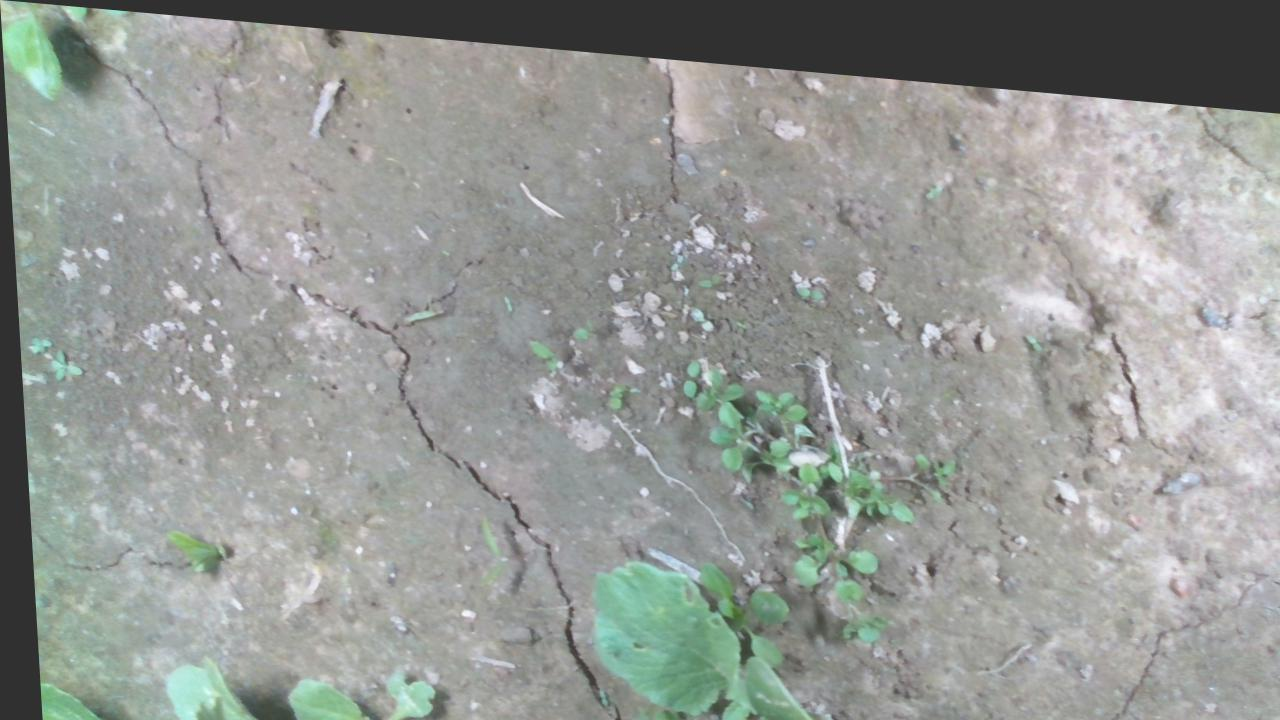weed: (599, 367, 622, 398), (693, 254, 721, 276), (792, 270, 822, 287), (1019, 312, 1038, 332)
